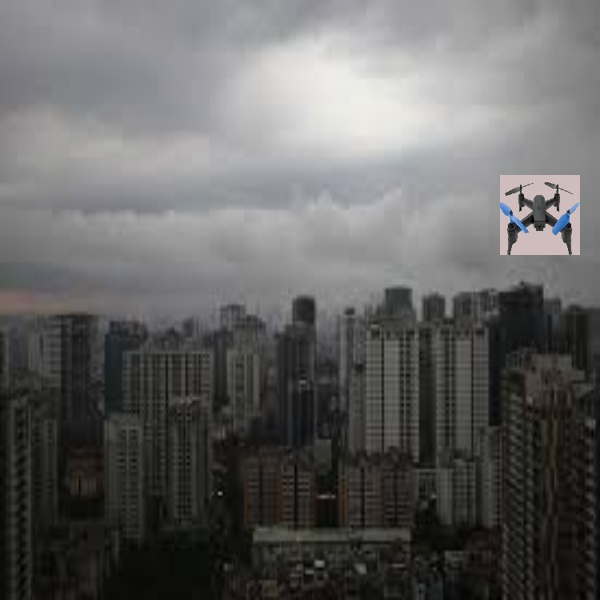drone: (499, 175, 582, 256)
